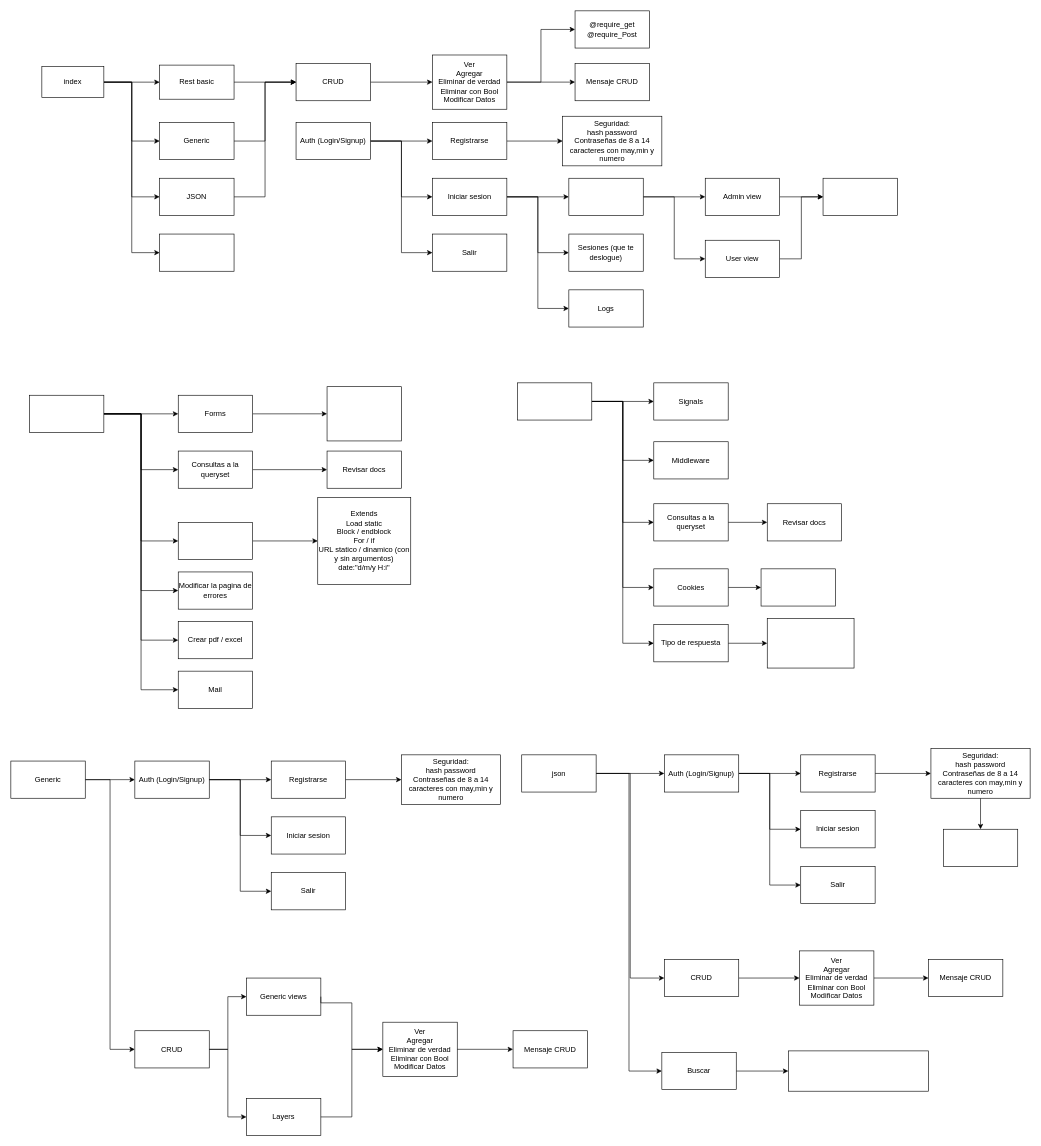
Image size: 1041x1146. Some labels were removed from this diagram. Each missing label, with the centre of its shape:
"@Login_required @Permission" belongs at [859,196].
"Creacion de HTML" belongs at [215,541].
"en la barra de búsquedas vayan surgiendo resultados" belongs at [858,1070].
"Modo oscuro" belongs at [797,587].
"Permisos / roles" belongs at [605,196].
"Que te vaya diciendo que te falta" belongs at [980,847].
"Redirect Return HTTPresponse FileResponse Return render" belongs at [810,643].
"Rest" belongs at [66,413].
"Rest avance" belongs at [196,252].
"Rest avanzado" belongs at [554,401].
"Ver (x) Agregar Eliminar de verdad (x) Eliminar con Bool (x) Modificar Datos" belongs at [363,413].
